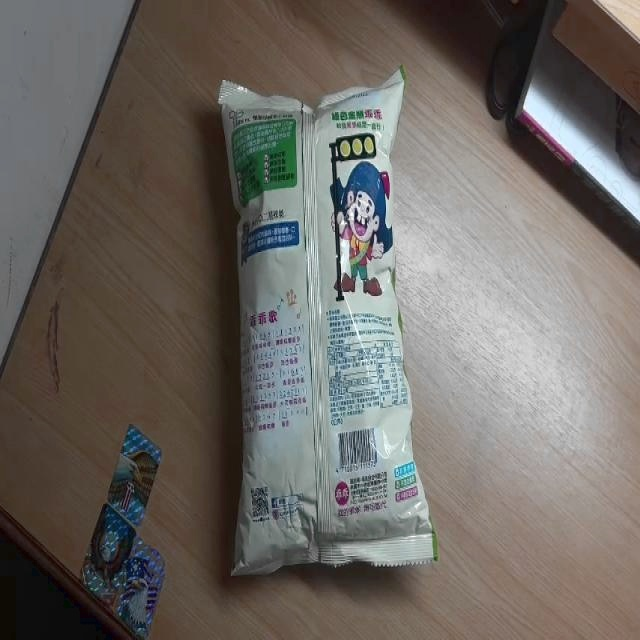Good-Luck: (219, 64, 437, 579)
